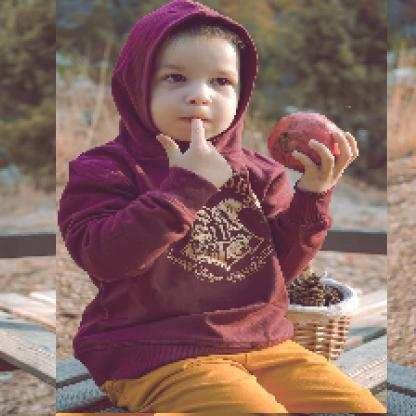child: (57, 1, 389, 415)
